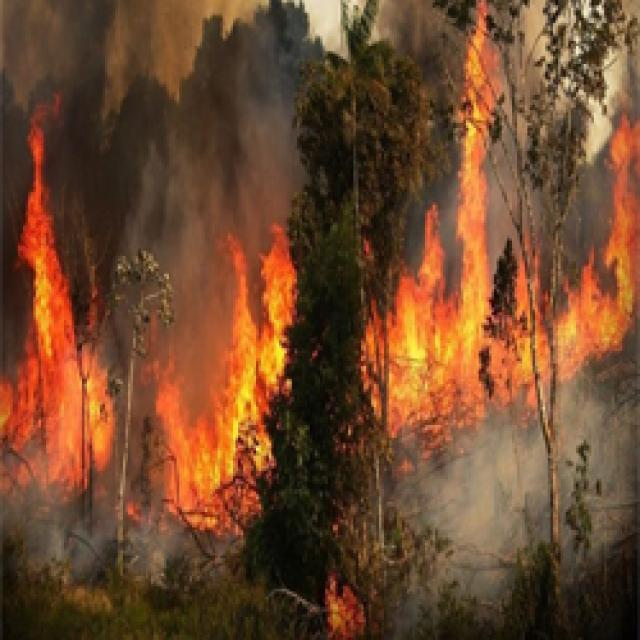Fire: (358, 0, 640, 434), (0, 90, 117, 510), (148, 228, 298, 540)
Smoke: (397, 409, 640, 596), (0, 0, 294, 94), (119, 83, 299, 225), (22, 504, 216, 580)
